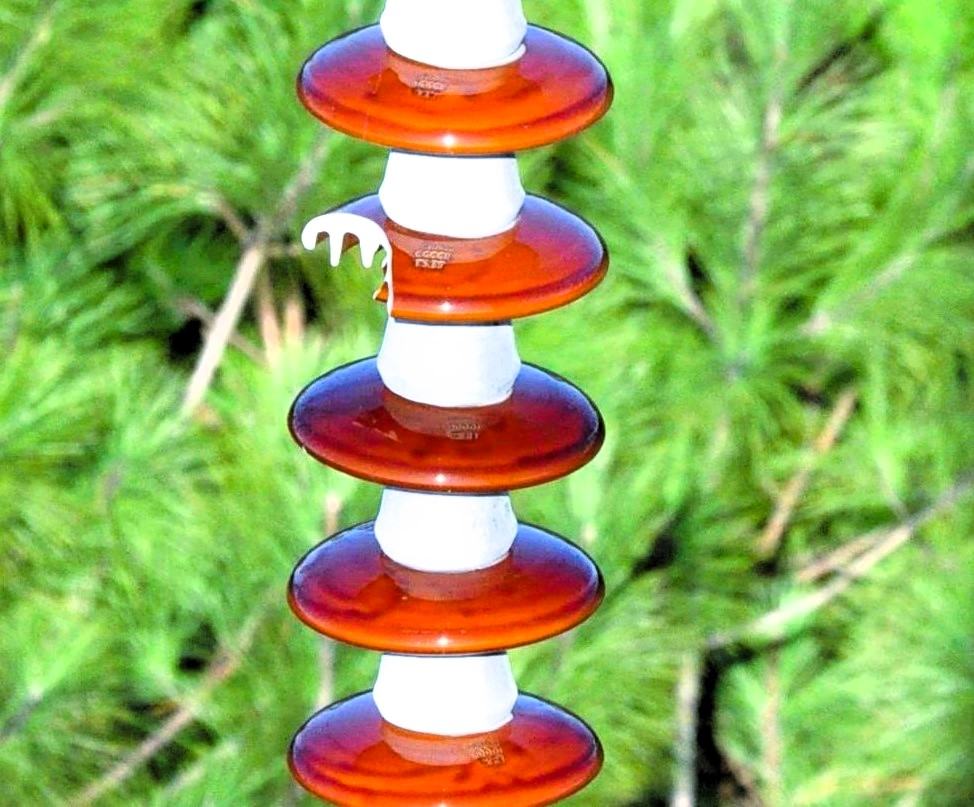insulator breakage: (278, 189, 617, 333)
